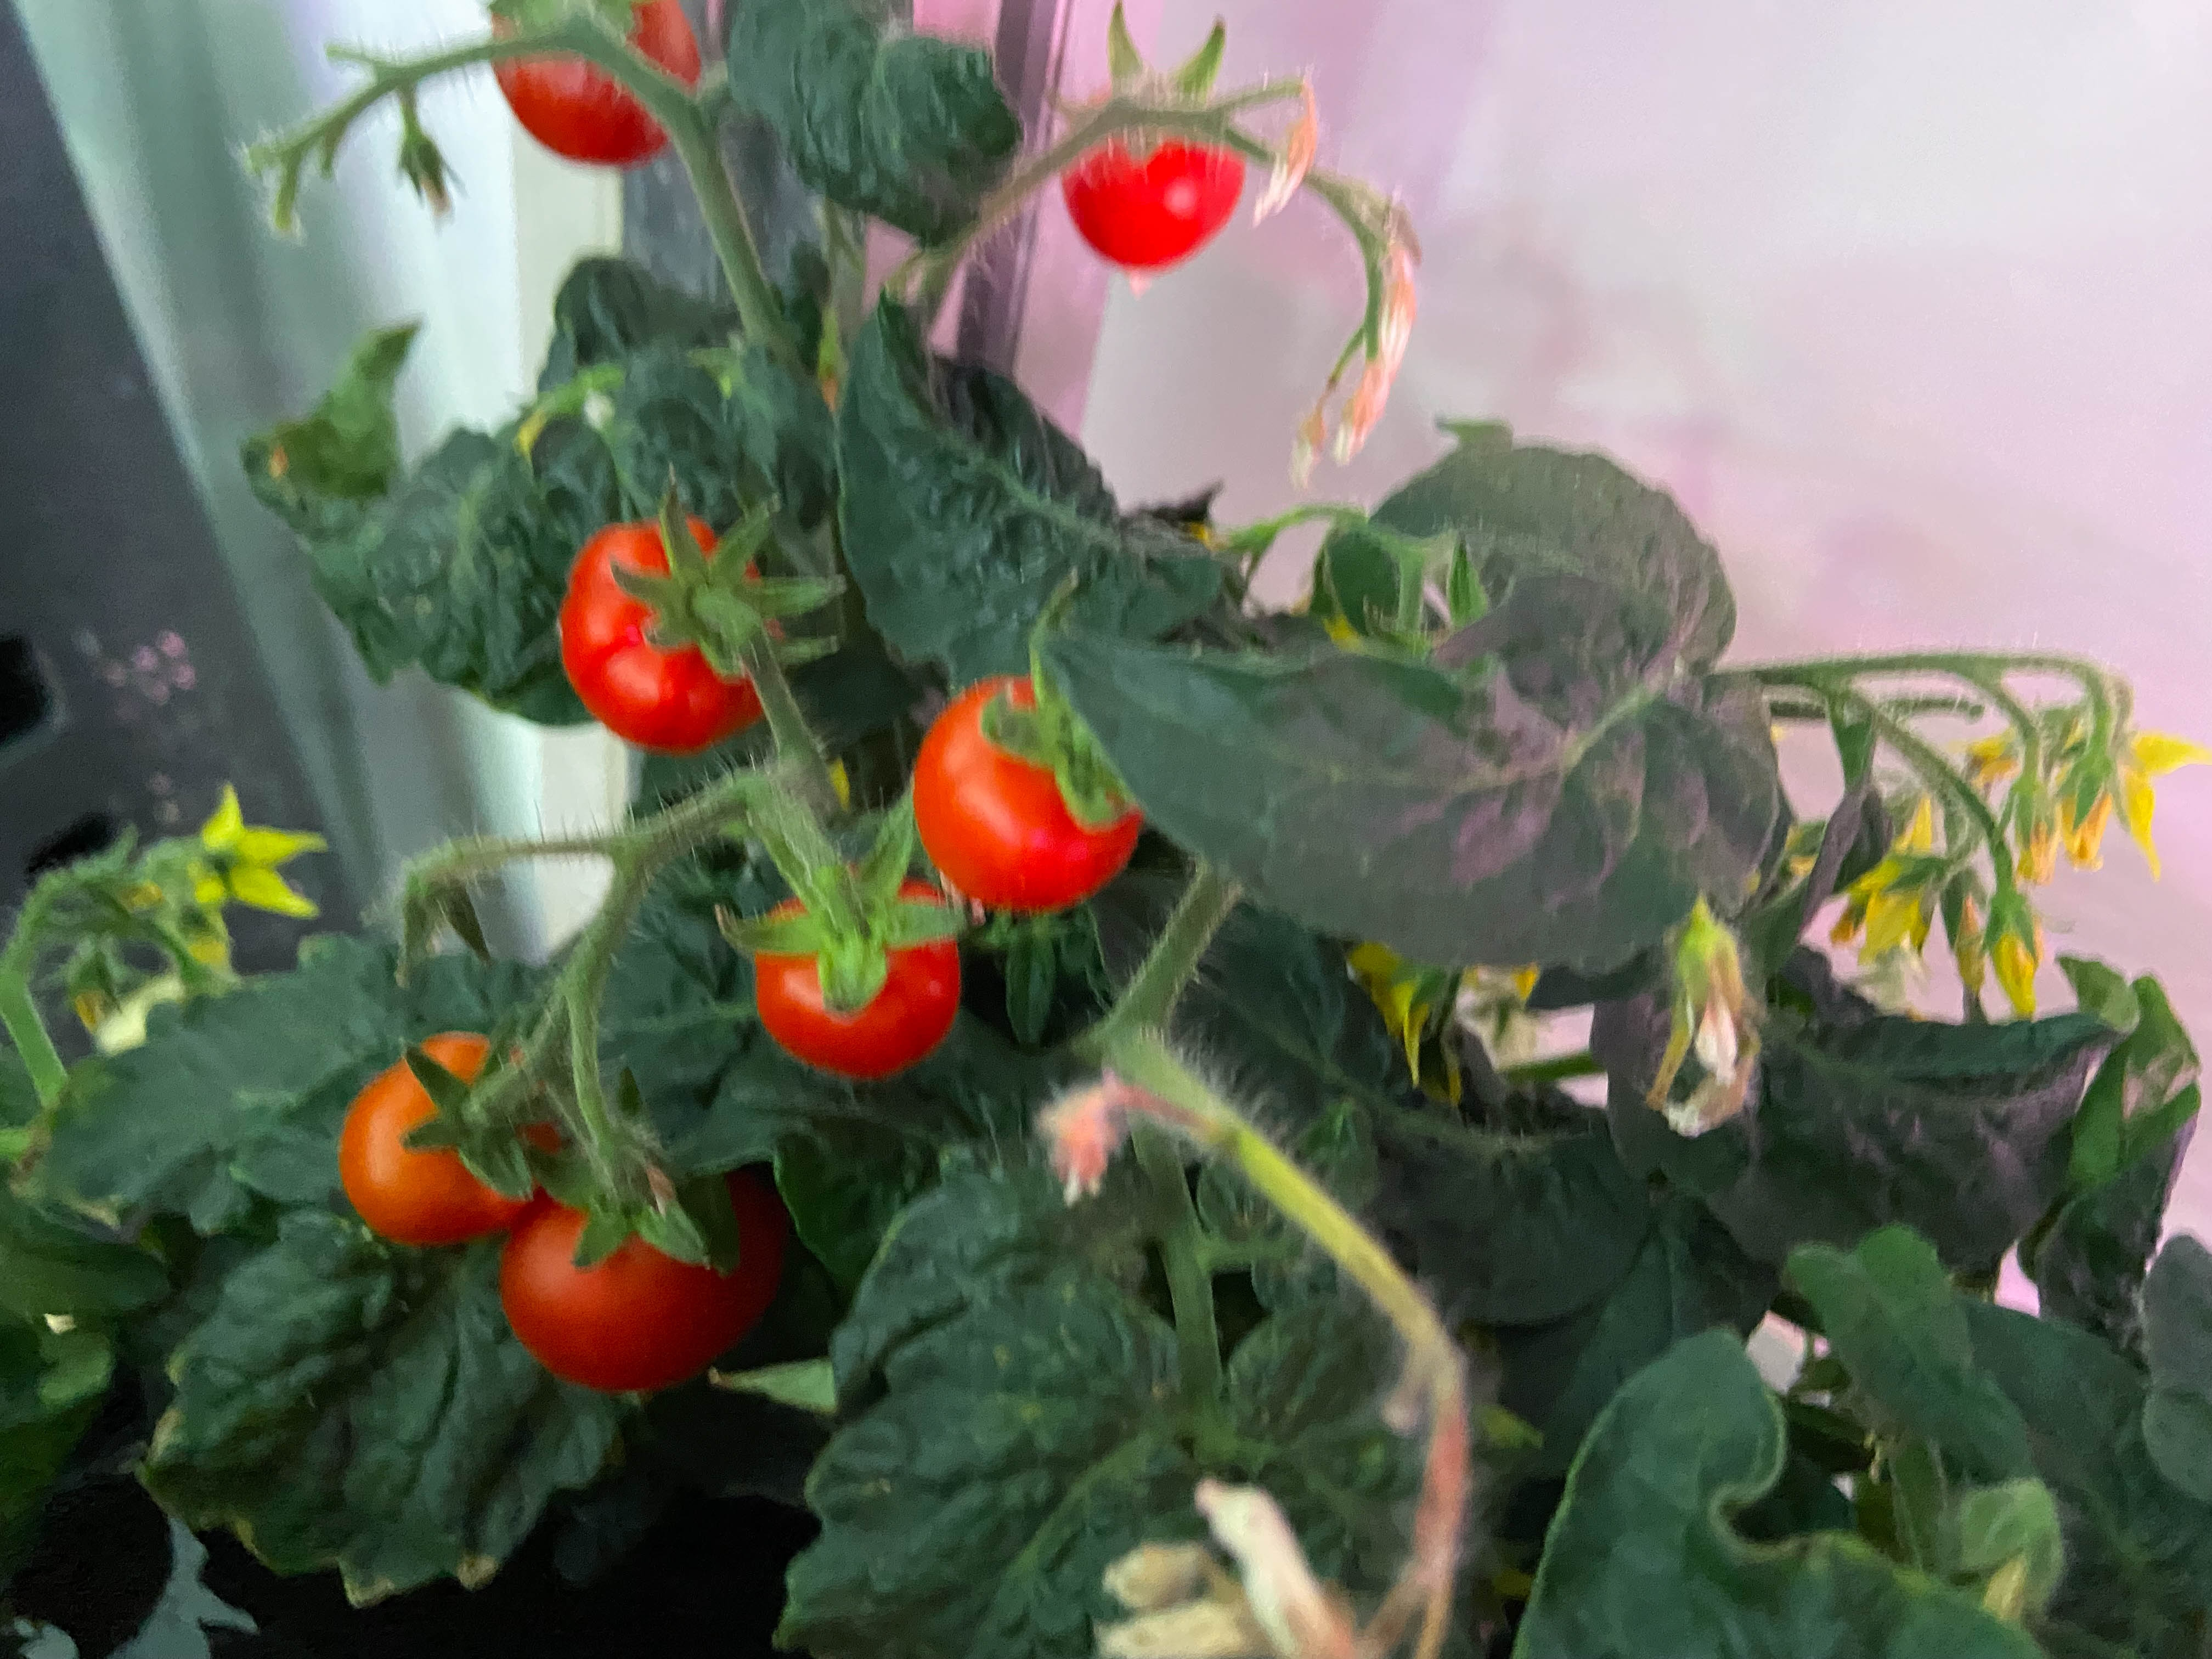red: (495, 1182, 779, 1394), (909, 667, 1144, 913), (557, 509, 763, 746), (749, 870, 970, 1077), (338, 1032, 549, 1248), (482, 0, 723, 166), (1055, 99, 1244, 270)
